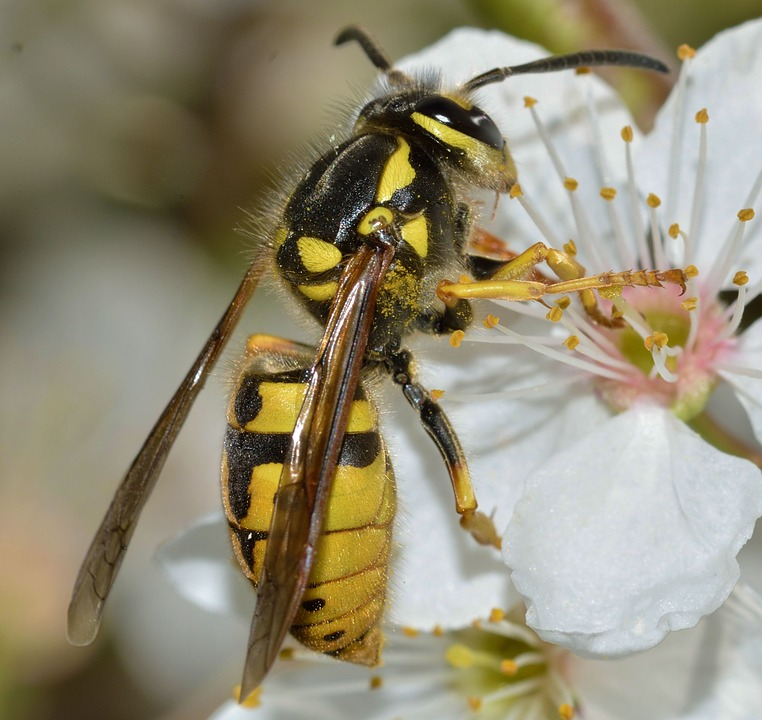chax: (22, 19, 679, 707)
